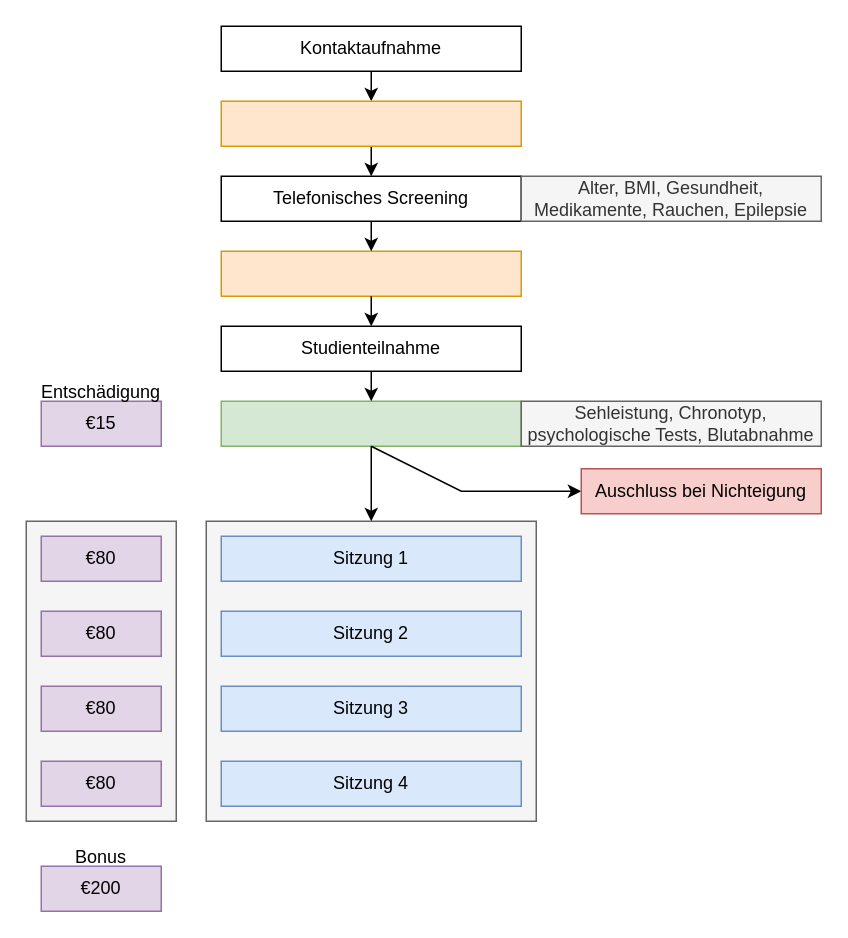
The diagram is 848 pixels wide and 938 high, and some of its shapes have lost their labels. The centre of each missing label's shape, as x and y in pixels:
"Einwilligung" goes at (x=370, y=273).
"Einwilligung zum telefonischen Screening (per Email)" goes at (x=370, y=123).
"Screening (1 Std.)" goes at (x=370, y=423).
